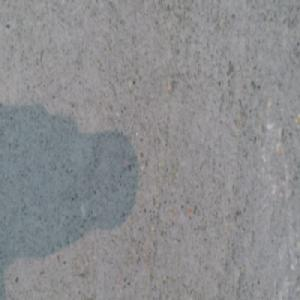Washer: (81, 286, 102, 300)
